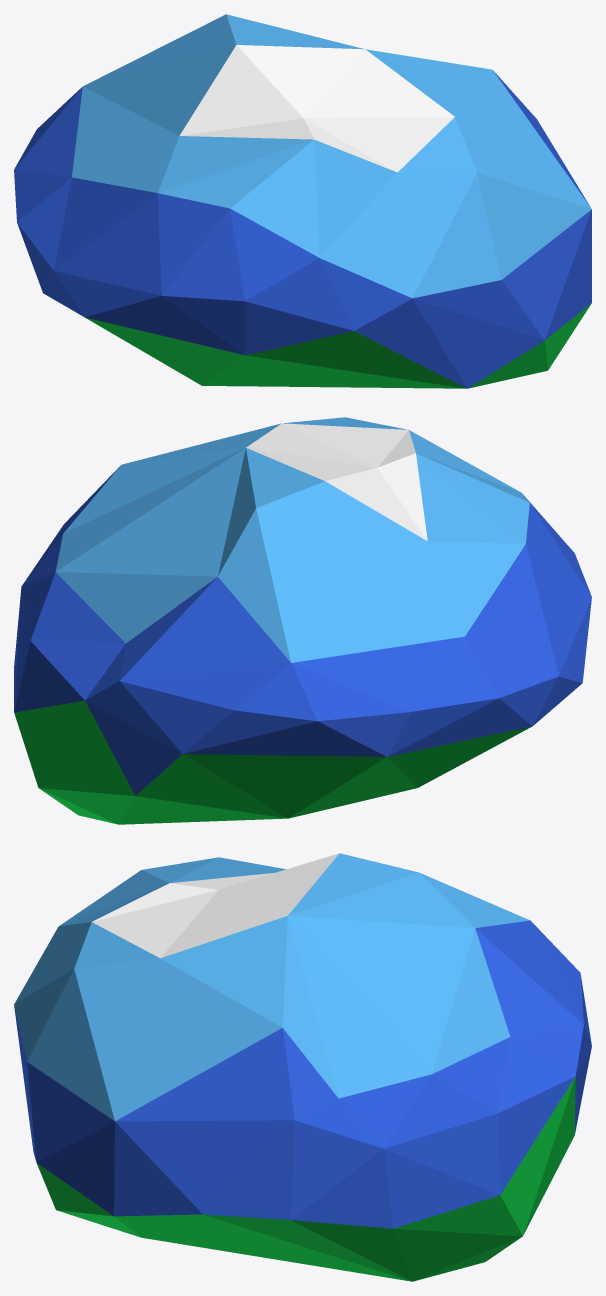
The model's file is ice_rock.fbx.
3 renders of one model, top to bottom at view 1: azimuth 30°, elevation 25°; view 2: azimuth 150°, elevation 25°; view 3: azimuth 270°, elevation 25°, orthographic.
Visible parts, largest first — view 1: ice; view 2: ice; view 3: ice.
Boxes of the visible parts, x1,y1,x2,y2 form: ice: [14, 14, 591, 388]; ice: [14, 417, 591, 824]; ice: [14, 853, 591, 1281].
Bounding box in the file's own units: 205 × 124 × 201.
